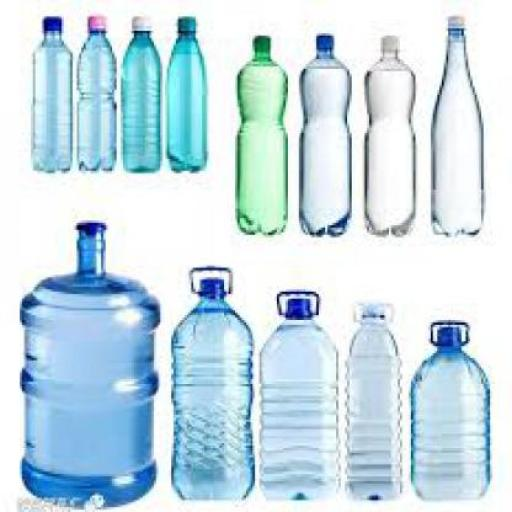plastic: (22, 220, 163, 505), (174, 264, 254, 498), (264, 288, 343, 496), (414, 318, 492, 496), (432, 14, 486, 235), (346, 301, 404, 498), (301, 33, 354, 235), (239, 33, 290, 233), (367, 33, 417, 235), (35, 14, 75, 171), (169, 14, 209, 171), (79, 12, 119, 168), (126, 14, 162, 168), (191, 264, 235, 296), (431, 318, 475, 350), (279, 289, 323, 318), (356, 301, 396, 323), (79, 220, 108, 235), (319, 30, 338, 52), (134, 14, 156, 32), (46, 14, 66, 32), (180, 14, 198, 34), (90, 14, 109, 32), (384, 32, 402, 50), (257, 32, 272, 50), (450, 14, 468, 29)
